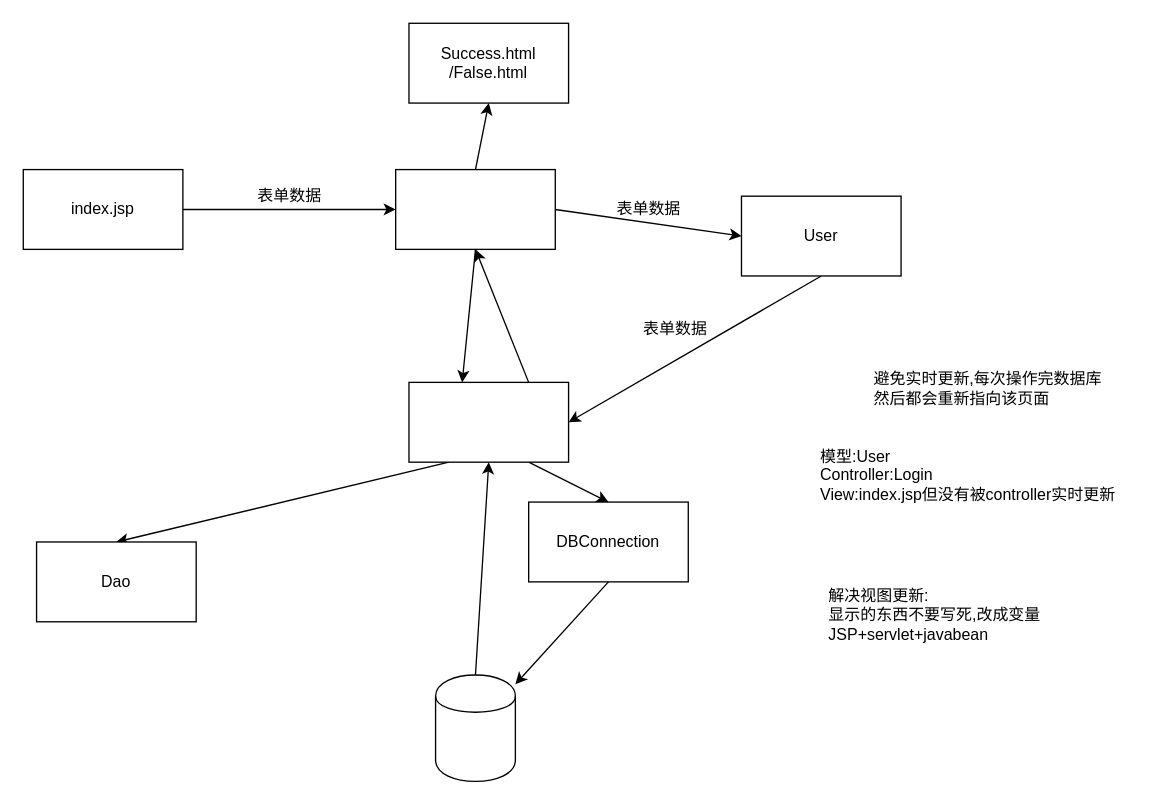
Image size: 1157x805. Some labels were removed from this diagram. The shapes that lost their labels are listed below. From the top down, each one's centre as x and y in pixels, then its label:
point (474, 208): Login
point (488, 421): UseDao
point (474, 727): DATABASE
